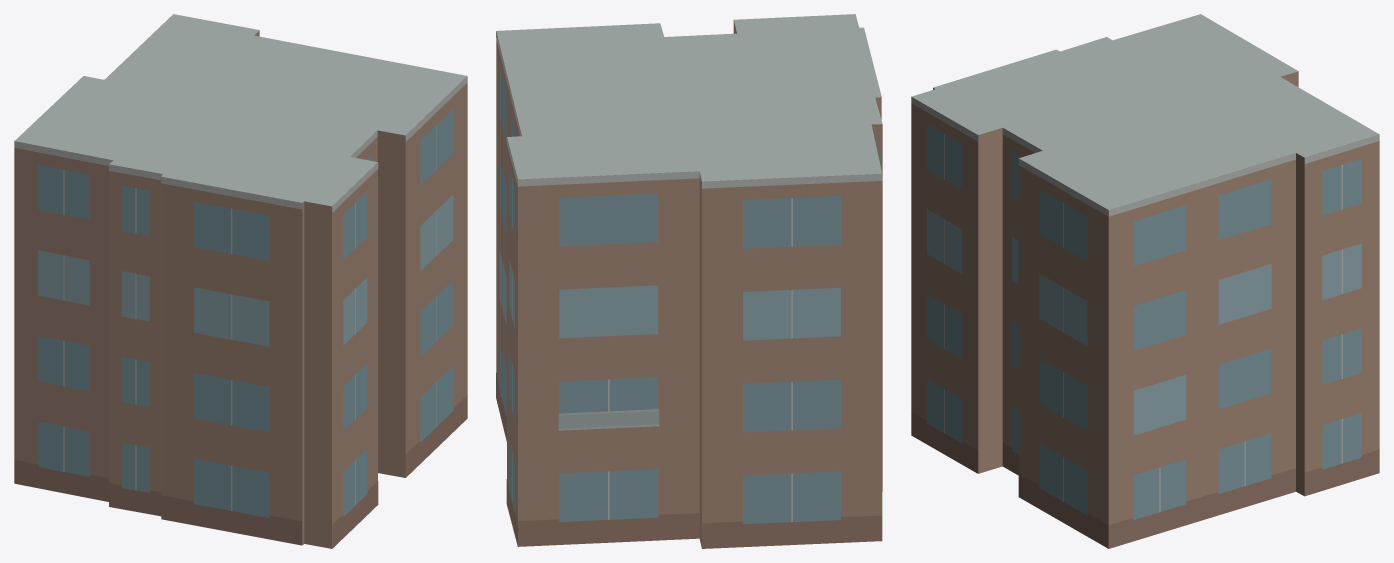
Rendered from survey-upis-32606671.glb.
The picture shows the model from 3 angles, left to right: view 1: azimuth 30°, elevation 25°; view 2: azimuth 150°, elevation 25°; view 3: azimuth 270°, elevation 25°; orthographic projection. The views are drawn at different scales.
Visible parts, largest first — view 1: survey-upis-32606671.tmp; view 2: survey-upis-32606671.tmp; view 3: survey-upis-32606671.tmp.
Boxes of the visible parts, box(x1,y1,x2,y2) form: survey-upis-32606671.tmp: box(14, 14, 467, 548); survey-upis-32606671.tmp: box(496, 14, 882, 548); survey-upis-32606671.tmp: box(911, 14, 1379, 548).
Bounding box in the file's own units: 15.66 × 12.6 × 15.8.
